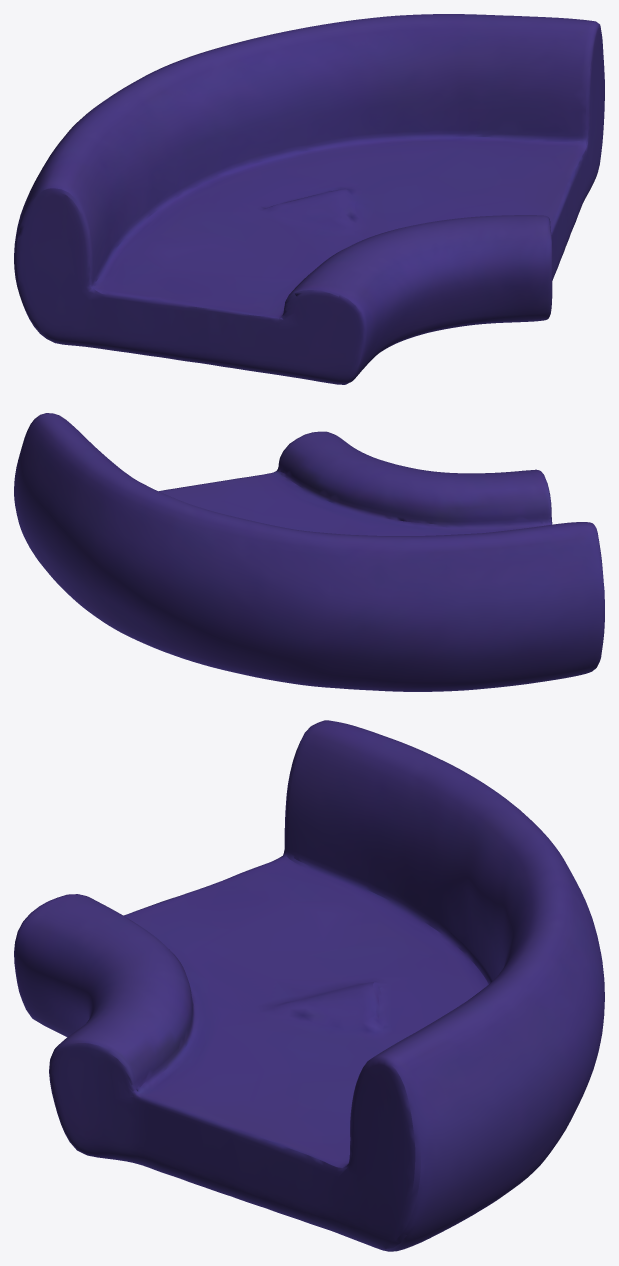
Rendered from track_corner.glb.
3 views of the same model, one above another, from view 1: azimuth 30°, elevation 25°; view 2: azimuth 150°, elevation 25°; view 3: azimuth 270°, elevation 25° (orthographic). The views are drawn at different scales.
Visible parts, largest first — view 1: track_corner; view 2: track_corner; view 3: track_corner.
Boxes of the visible parts, x1,y1,x2,y2 form: track_corner: (14,14,604,384); track_corner: (14,413,604,691); track_corner: (14,720,604,1251).
Bounding box in the file's own units: 1 × 0.2586 × 0.6787.
